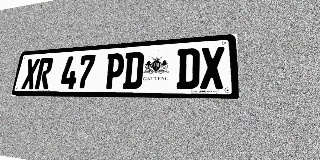4: (60, 56, 80, 89)
7: (75, 55, 96, 89)
D: (176, 48, 200, 89), (122, 51, 144, 89)
P: (104, 53, 125, 89)
R: (34, 57, 54, 89)
X: (200, 46, 225, 89), (21, 58, 40, 89)
